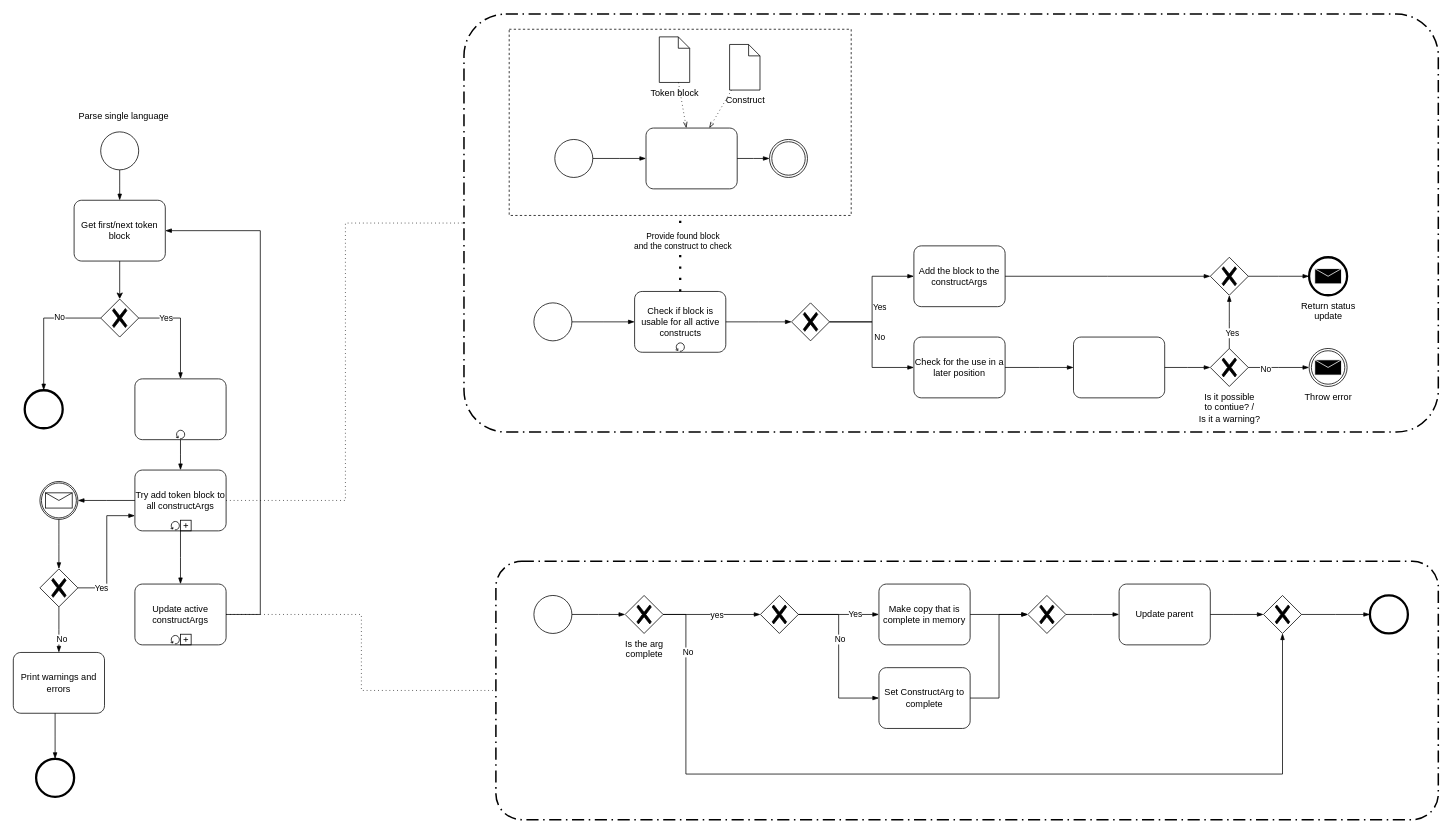
The diagram is 1452 pixels wide and 833 high, and some of its shapes have lost their labels. Each missing label, with the centre of its shape:
Add a warning or error to constructArgs: pixel 1119 367
Add sub-constructs to the active constructs: pixel 180 409
Call check function on the construct and provide the block: pixel 691 158
Can it continue: pixel 58 587
Can the arg continue: pixel 779 614
catch error: pixel 58 500
Is the block usable in the construct: pixel 810 321
Token block exists?: pixel 119 317
